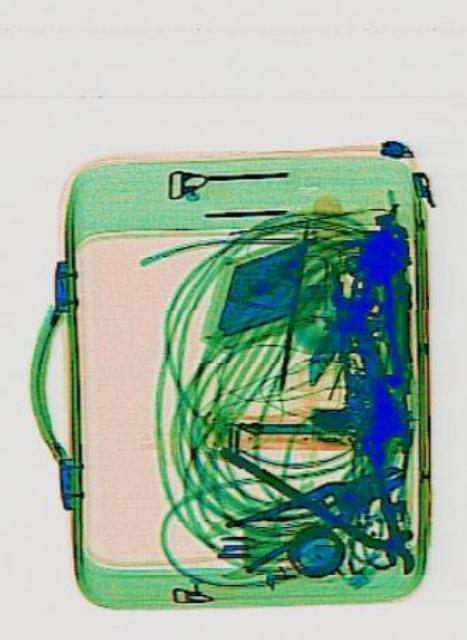Pliers: (224, 444, 409, 576)
Wrench: (322, 266, 416, 474)
